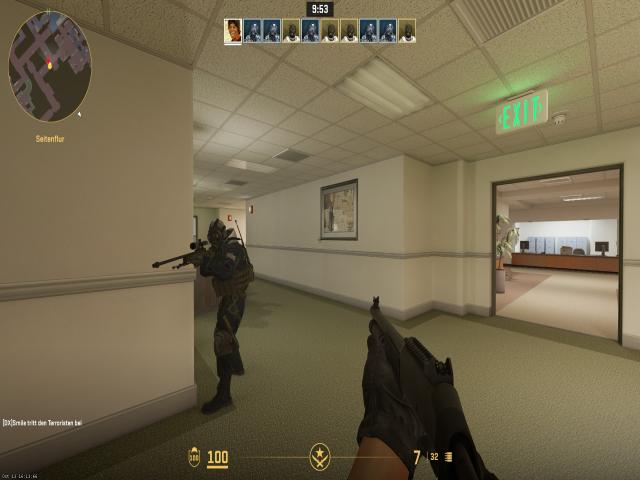CT: (206, 221, 250, 384)
CT-Head: (210, 219, 227, 248)
